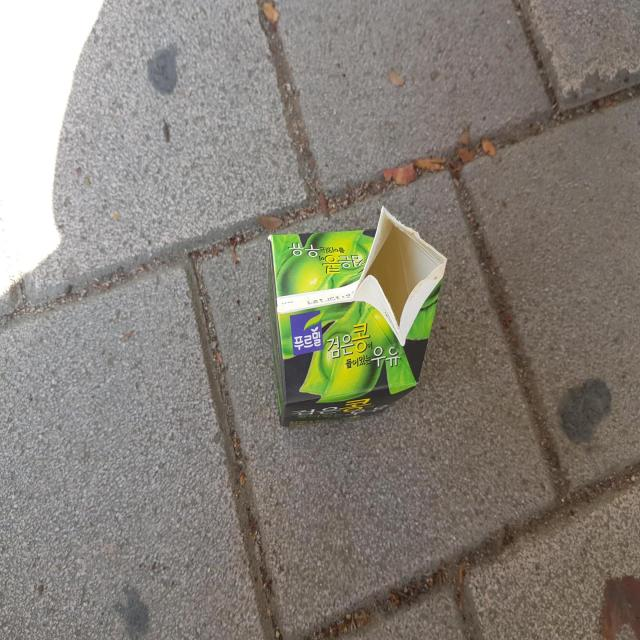paperpack: (268, 206, 447, 426)
